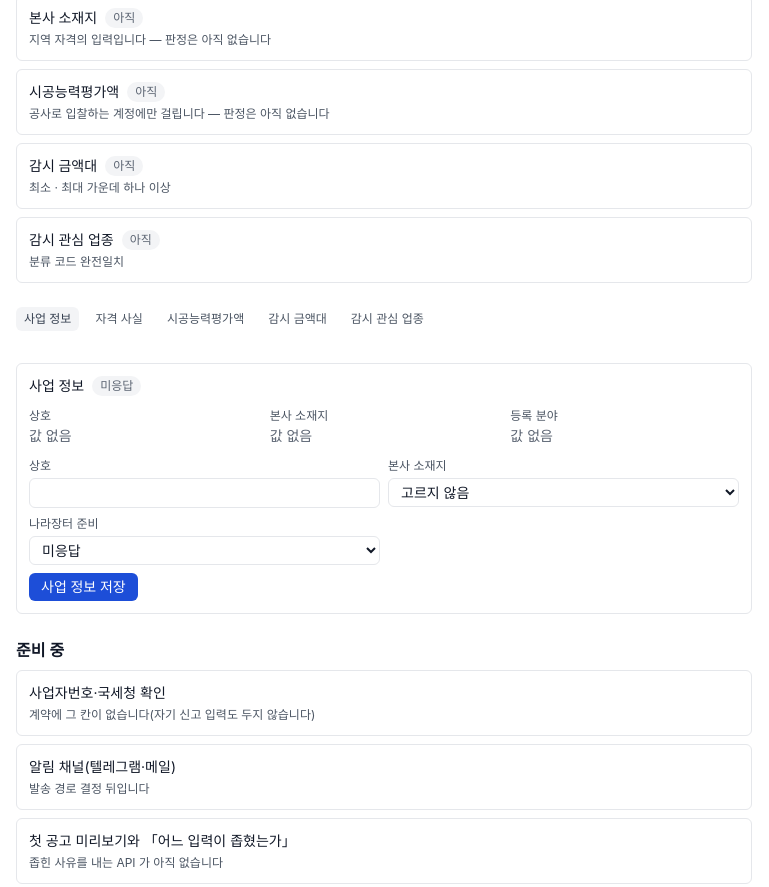
Test: 시작하기 — 쓰기 뒤에는 다시 읽는다 › 다시 읽은 체크리스트가 완료라고 하면 그때 완료가 된다
This screenshot has width=769, height=887.
(page scrolled)
expect the field labelled "상호" is shown: met, box [29,478,380,508]
Click the button "사업 정보 저장". click: (83, 587)
box: [29,573,138,601]
(page scrolled)
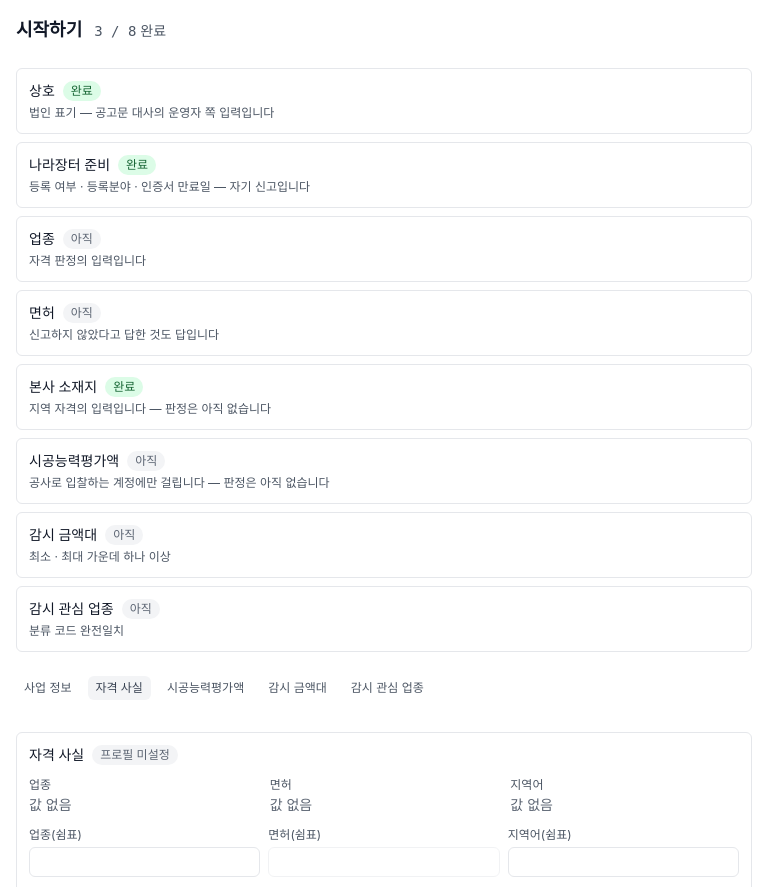
expect the text with test id "onboarding-state-TRADE_NAME" reads "완료": met, box [71,83,93,98]
